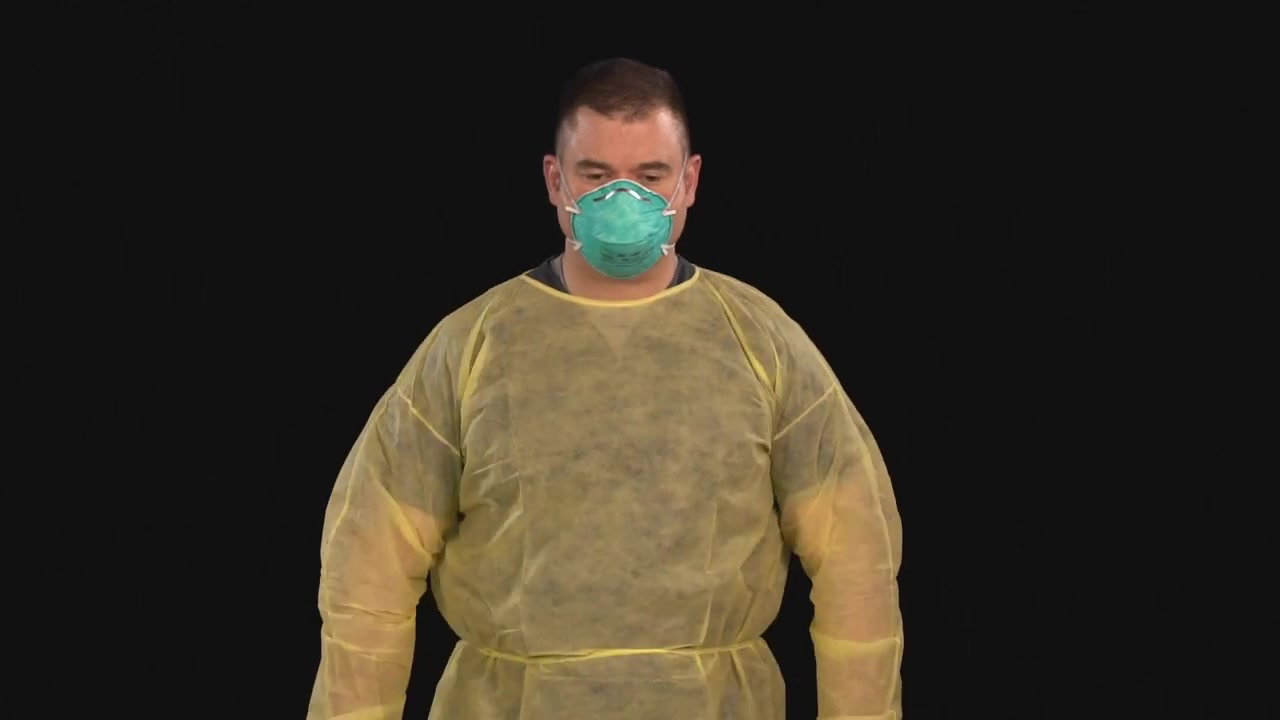Coverall: (372, 260, 864, 720)
with_mask: (561, 169, 672, 269)
